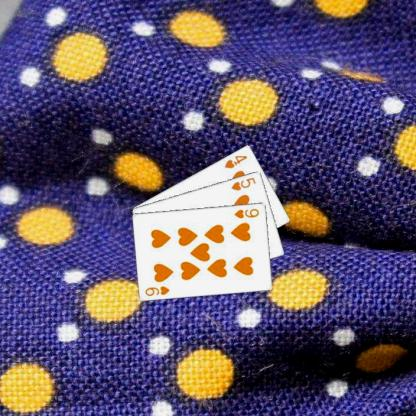4H: (222, 152, 249, 170)
5H: (229, 175, 257, 191)
9H: (143, 283, 171, 297), (232, 206, 260, 219)
